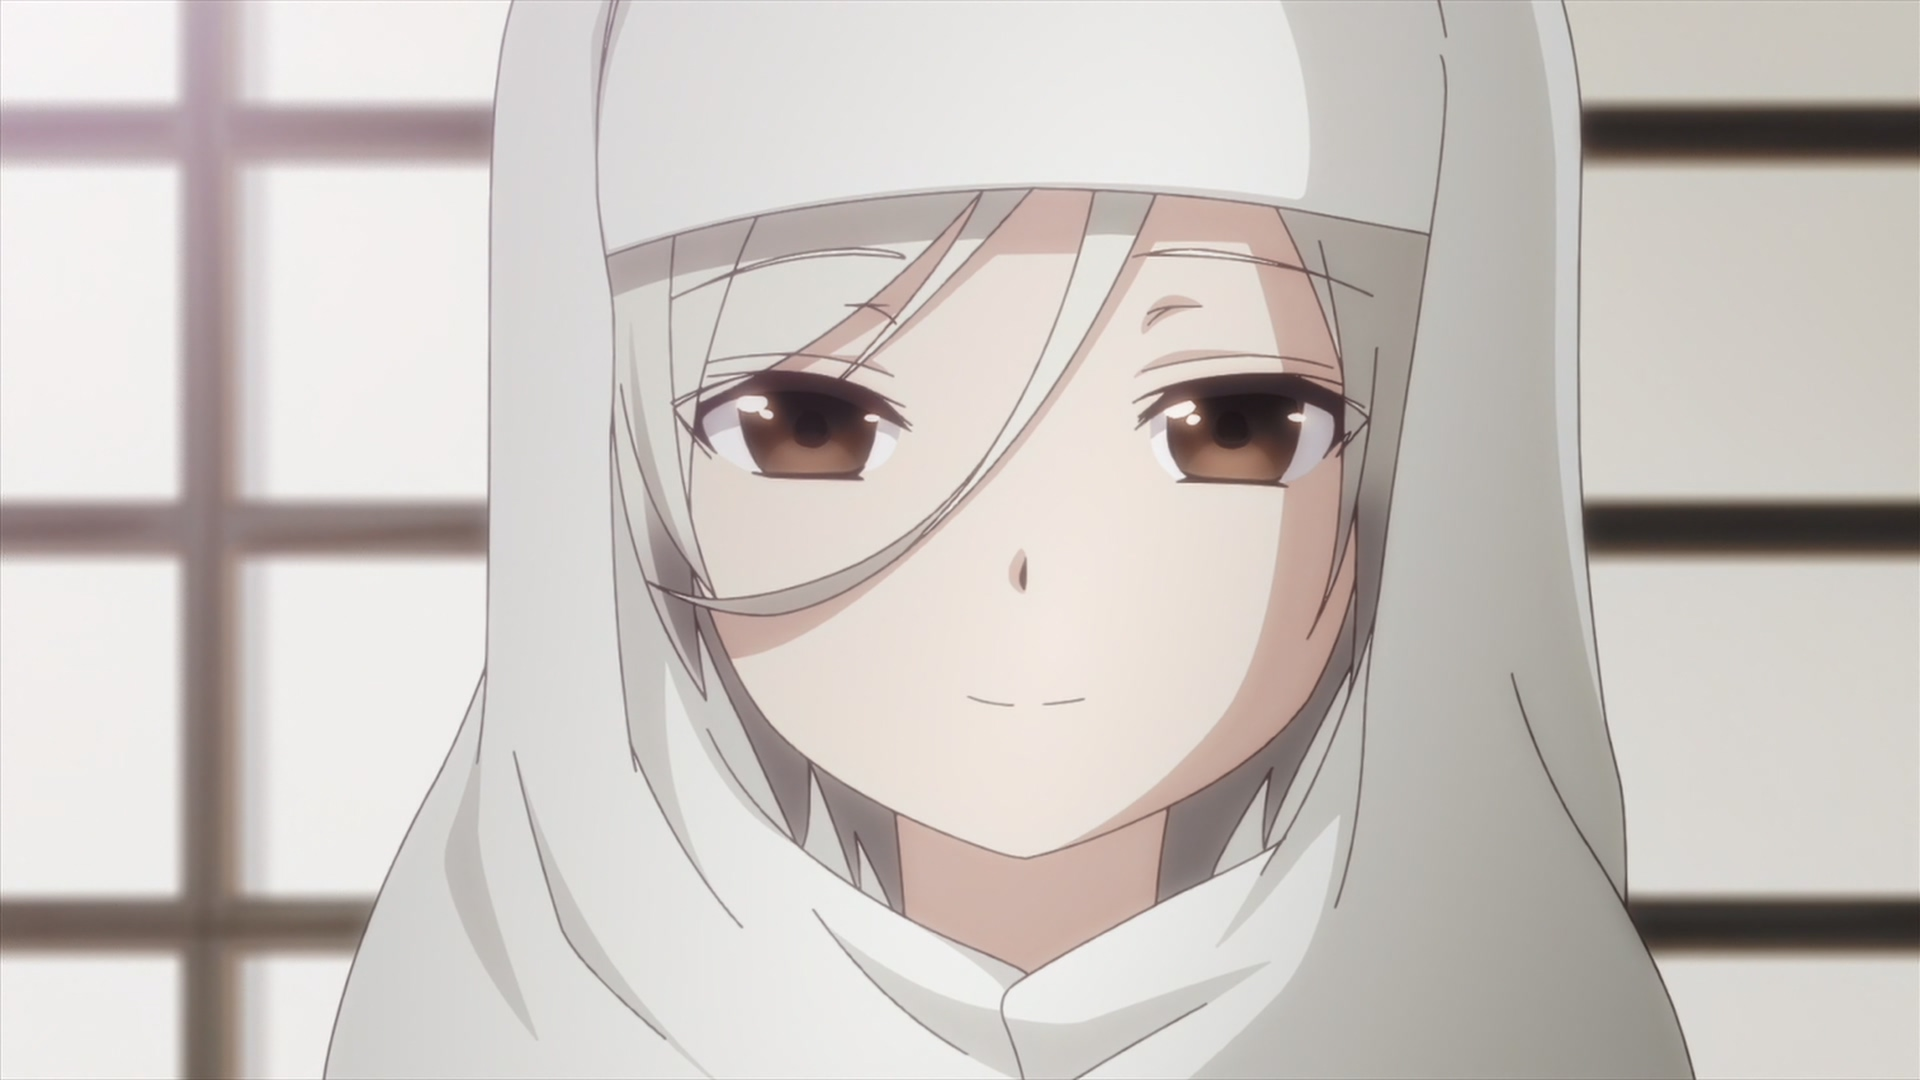八百比丘尼: (324, 1, 1693, 1080)
